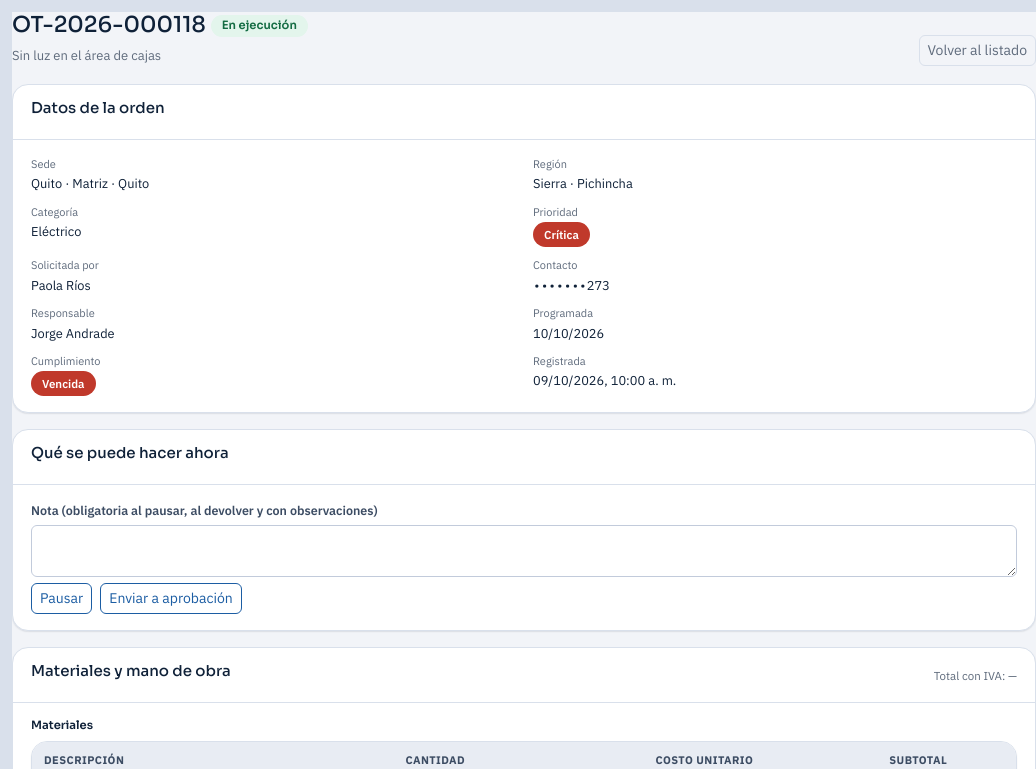
Test: La ficha › ofrece solo los pasos permitidos y manda la nota al pausar
This screenshot has width=1036, height=769.
Expected: the text "Sin luz en el área de cajas" is shown, [12, 47, 161, 64]
Expected: the button "Pausar" is shown, [31, 583, 92, 614]
Type "Falta el repuesto." into the text box at (524, 551), box [31, 525, 1017, 577]
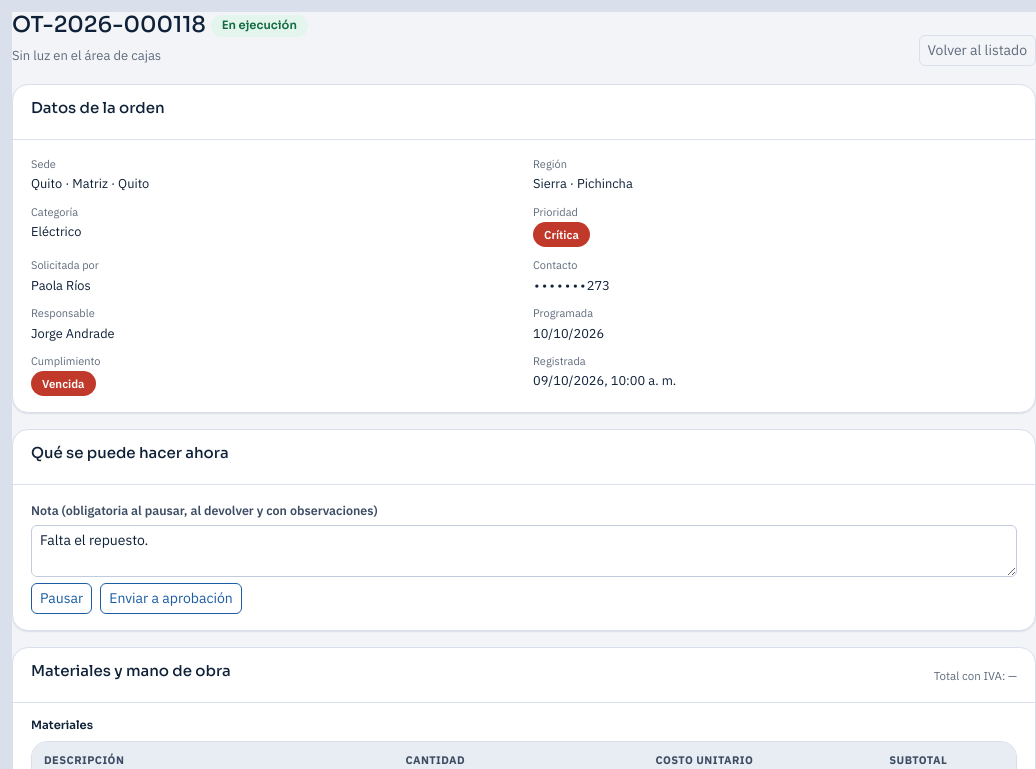
Click the button "Pausar" at (62, 599), box [31, 583, 92, 614]
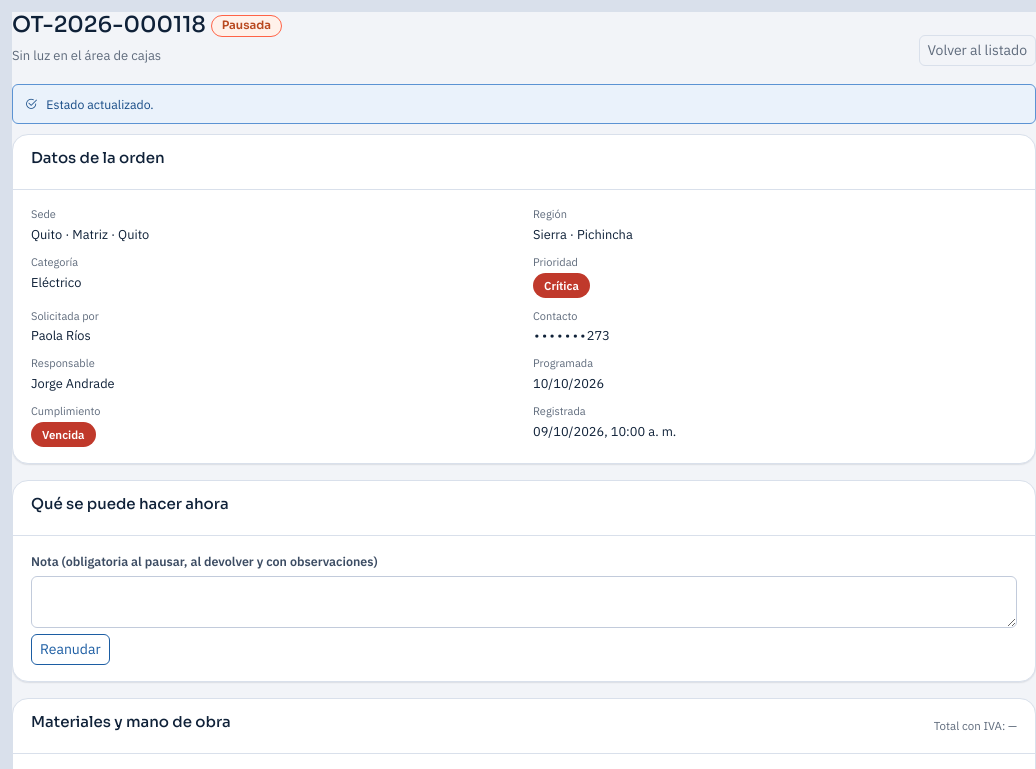
Expected: the button "Reanudar" is shown, [31, 634, 110, 665]
